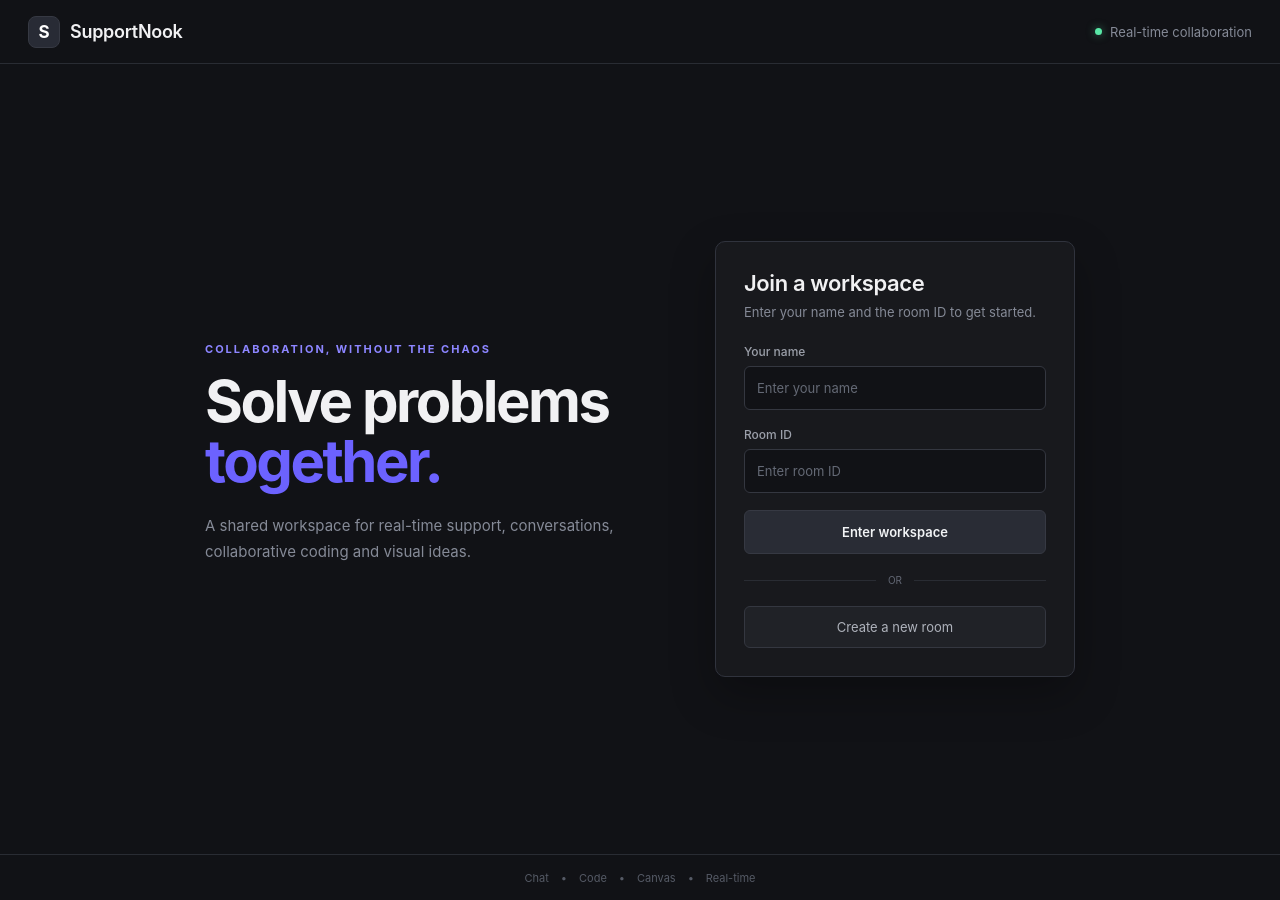
Home › shows an error when joining without a room ID
Type "Gavin" into the field labelled "Your name" at (895, 388), box [744,366,1046,410]
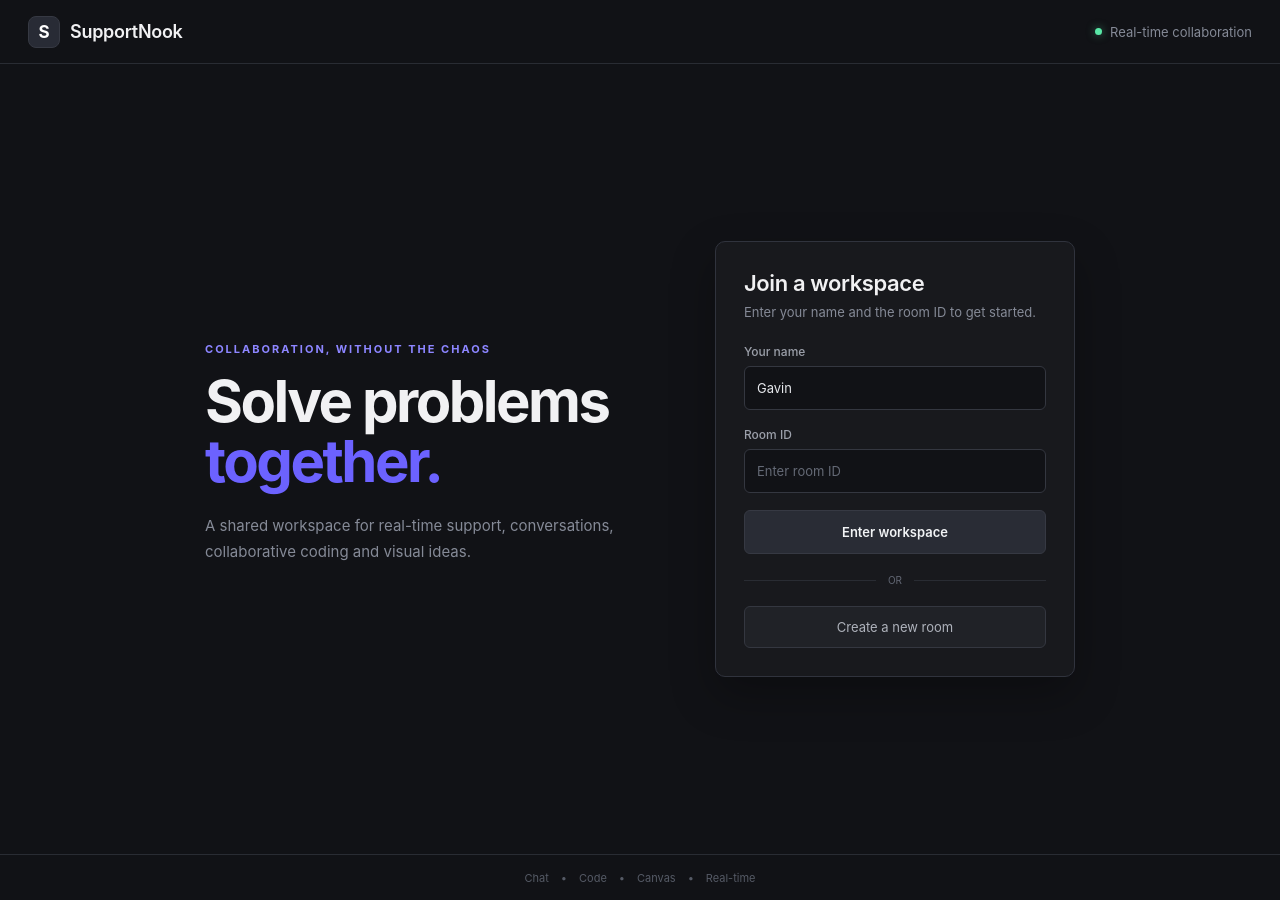
Click the button "Enter workspace" at (895, 532), box [744,510,1046,554]
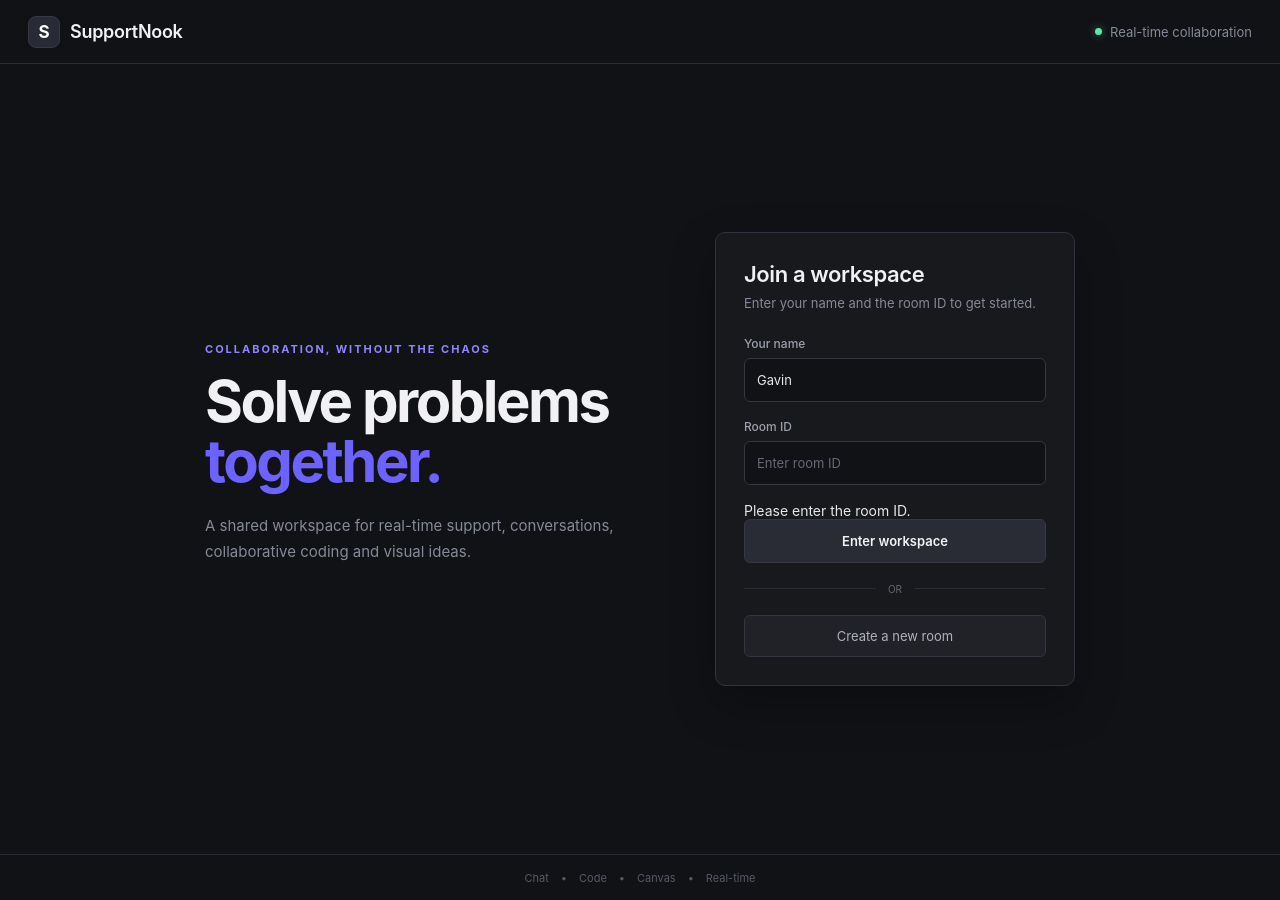
Expected: the text "Please enter the room ID." is shown, [744,502,910,519]
